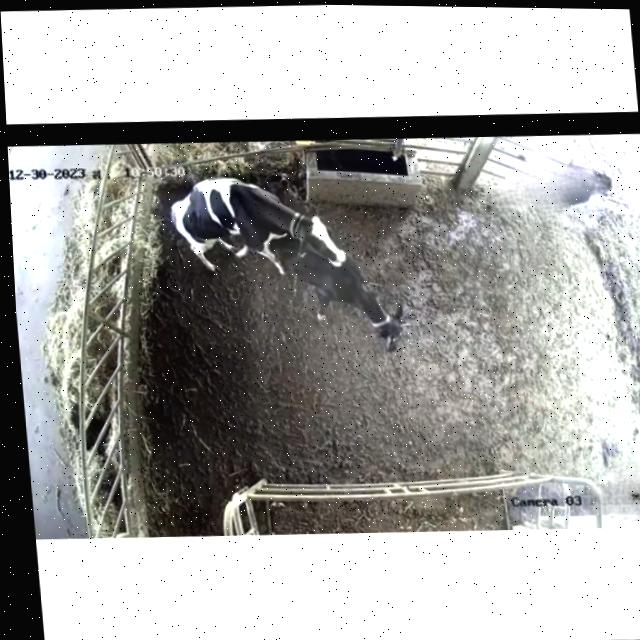ride: (153, 167, 351, 281)
stand: (268, 227, 416, 360)
